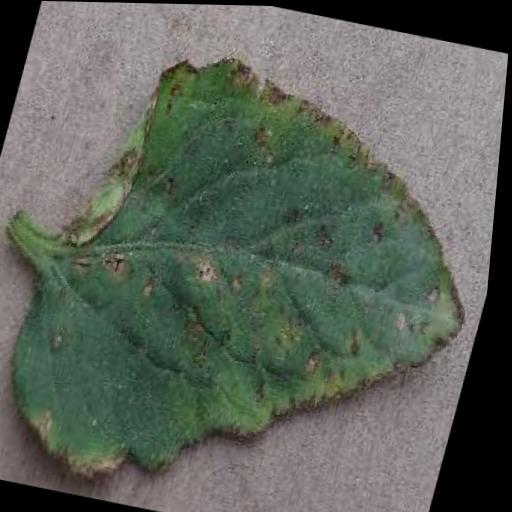Bacterial Spot: (0, 16, 511, 512)
